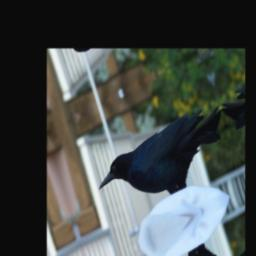Crow: (91, 97, 235, 228)
